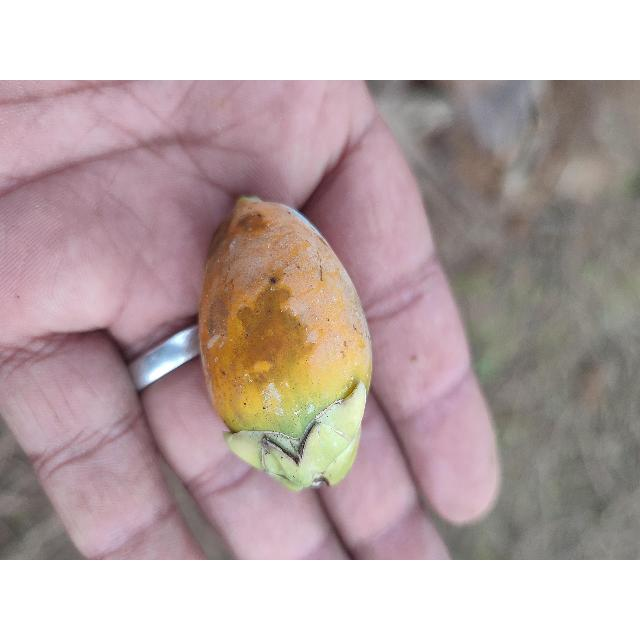good: (196, 197, 373, 493)
